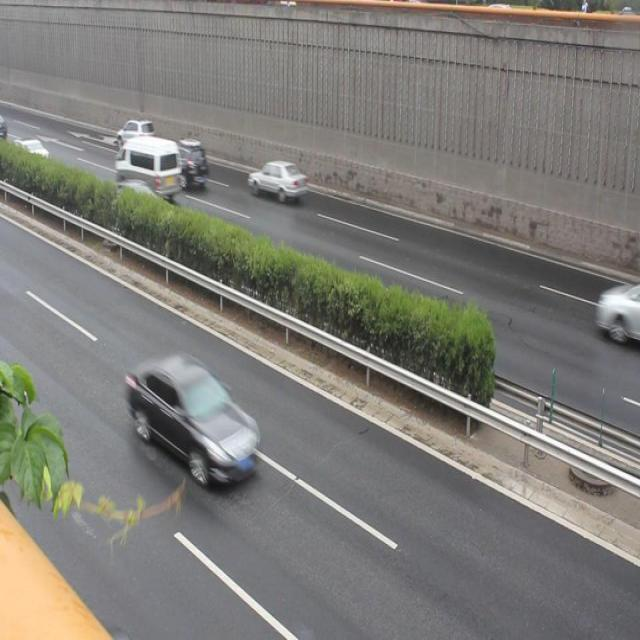car: (126, 355, 262, 485), (97, 179, 168, 238), (246, 159, 310, 204), (112, 118, 157, 156)
truck: (117, 136, 183, 199), (160, 138, 211, 190)
